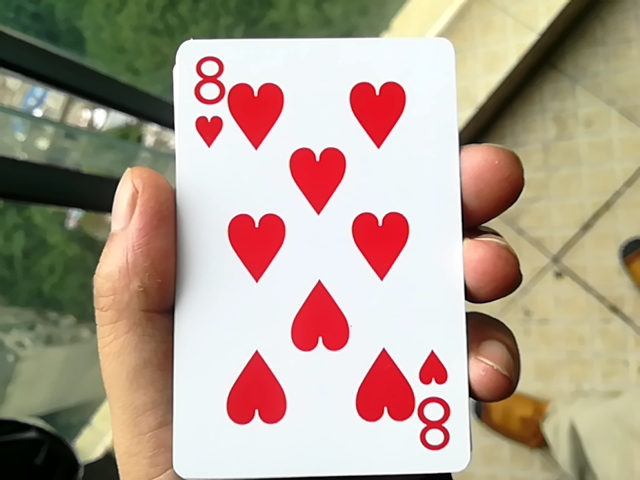hx 8: (147, 20, 466, 468)
